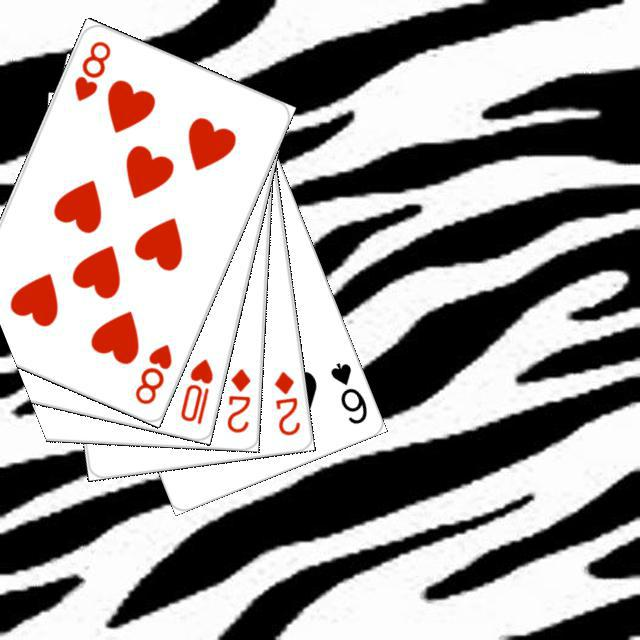10h: (175, 353, 215, 426)
2d: (269, 366, 302, 437), (222, 363, 253, 434)
6s: (325, 357, 369, 426)
8h: (130, 339, 174, 407), (69, 36, 113, 103)
